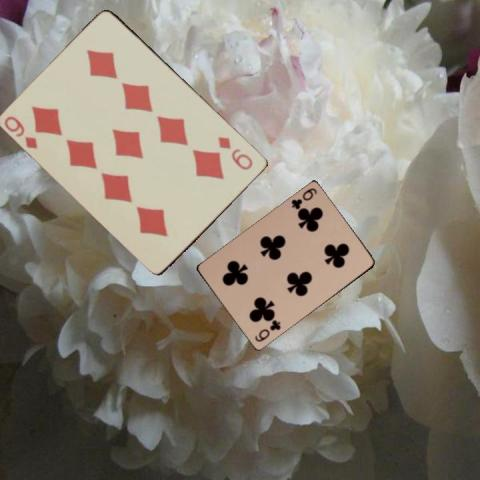6c: (288, 185, 318, 212), (251, 318, 282, 344)
9d: (215, 133, 255, 172), (2, 113, 40, 151)
